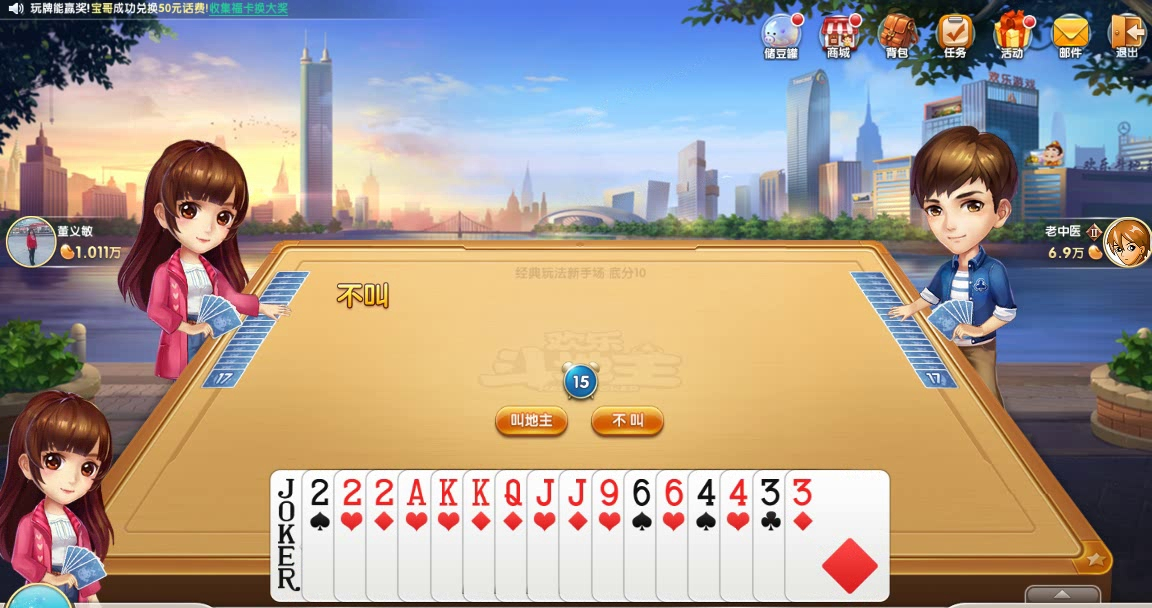11~1: (558, 467, 663, 601)
11~3: (527, 468, 632, 602)
12~1: (494, 468, 599, 602)
13~1: (463, 468, 568, 602)
13~3: (430, 468, 535, 602)
14~3: (396, 468, 501, 602)
15~1: (365, 466, 470, 600)
15~3: (333, 467, 438, 601)
15~4: (301, 468, 406, 602)
17~3: (270, 468, 375, 602)
3~1: (785, 469, 890, 603)
3~2: (752, 468, 857, 602)
4~3: (718, 468, 823, 602)
4~4: (687, 467, 792, 601)
6~3: (655, 467, 760, 601)
6~4: (622, 468, 727, 602)
9~3: (590, 467, 695, 601)
